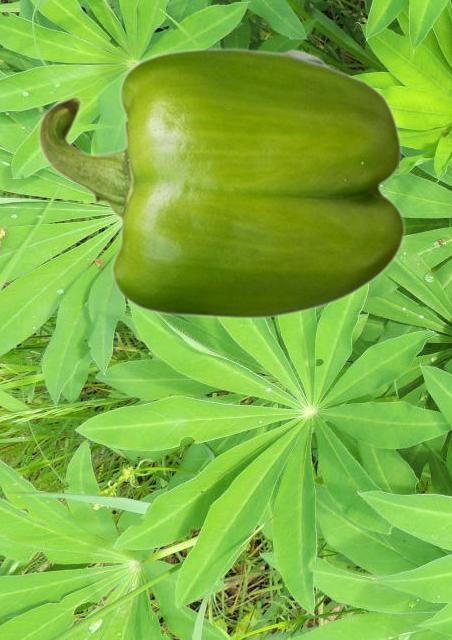bell_pepper: (37, 47, 405, 319)
